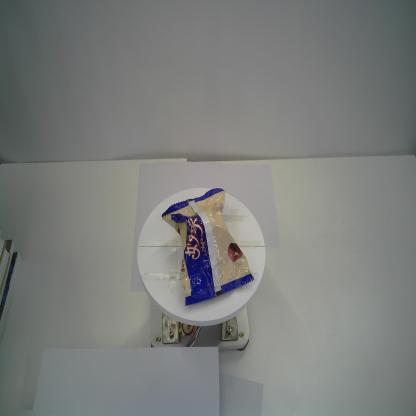Dessert: (160, 187, 254, 307)
